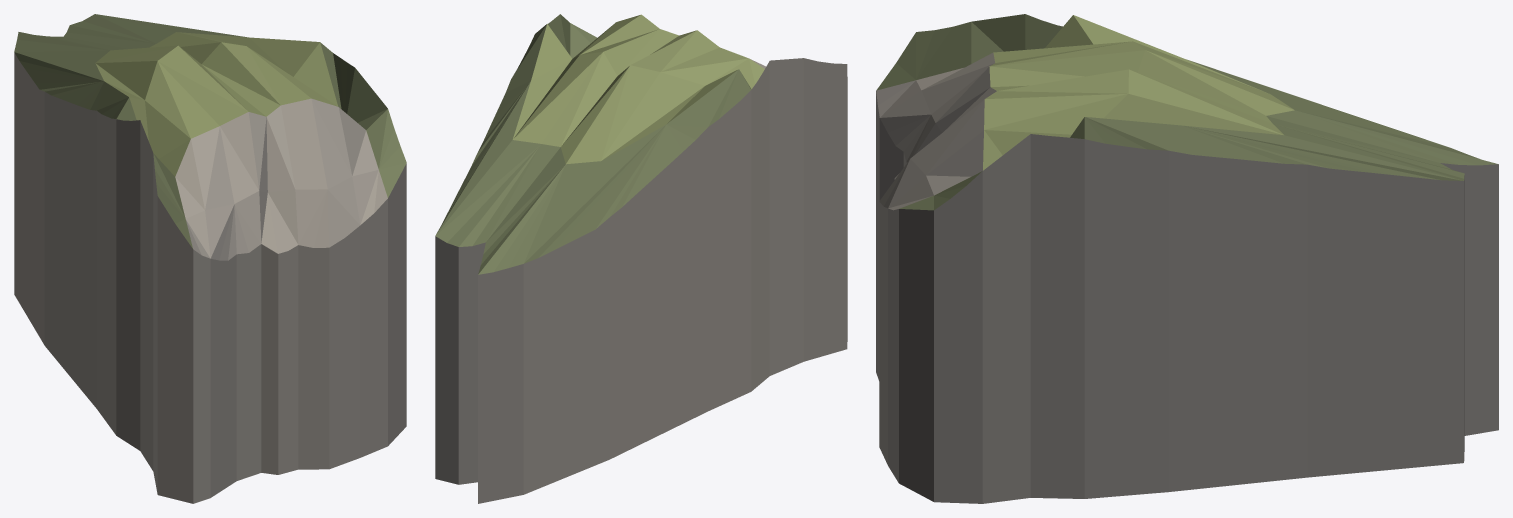
File: cliff_front_columns.glb
The picture shows the model from 3 angles, left to right: view 1: azimuth 30°, elevation 25°; view 2: azimuth 150°, elevation 25°; view 3: azimuth 270°, elevation 25°; orthographic projection. The views are drawn at different scales.
Parts seen in each view (by area): view 1: cliff_front_columns; view 2: cliff_front_columns; view 3: cliff_front_columns.
Part boxes in pixels (<box>): cliff_front_columns: <box>14,14,406,503</box>; cliff_front_columns: <box>435,14,847,503</box>; cliff_front_columns: <box>876,14,1498,503</box>.
Bounding box in the file's own units: 55.57 × 70 × 104.
